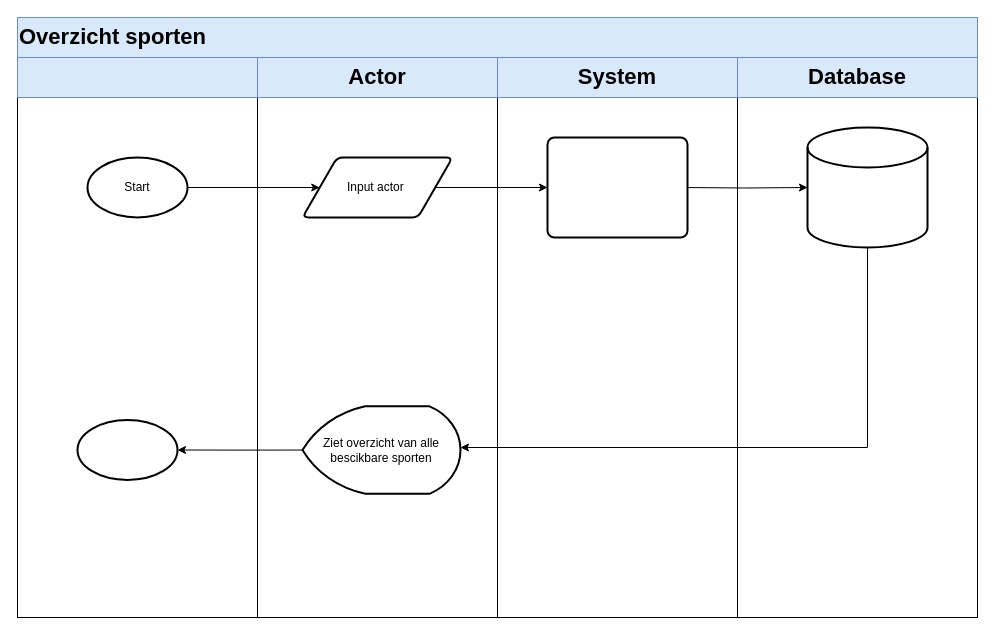
Some shapes in this 995 by 635 pixel diagram are drawn without their labels. Here are the shapes that lost their labels. From the top down, the centre of each, then its label:
(617,187): Vraagt gegevens aan database
(867,187): Haalt gegevens op
(127,449): Stop
